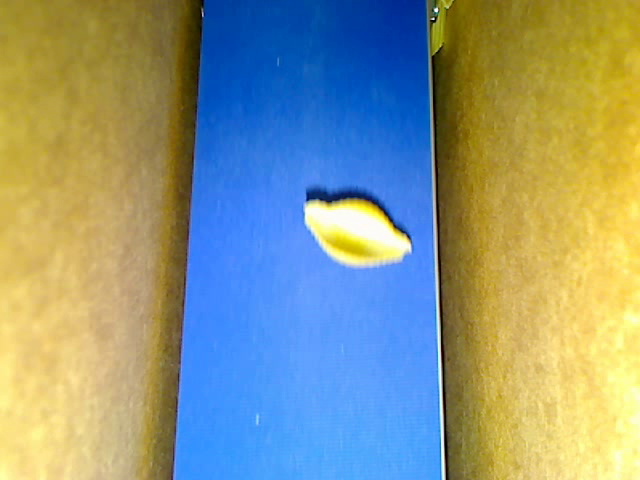shell: (303, 194, 414, 266)
